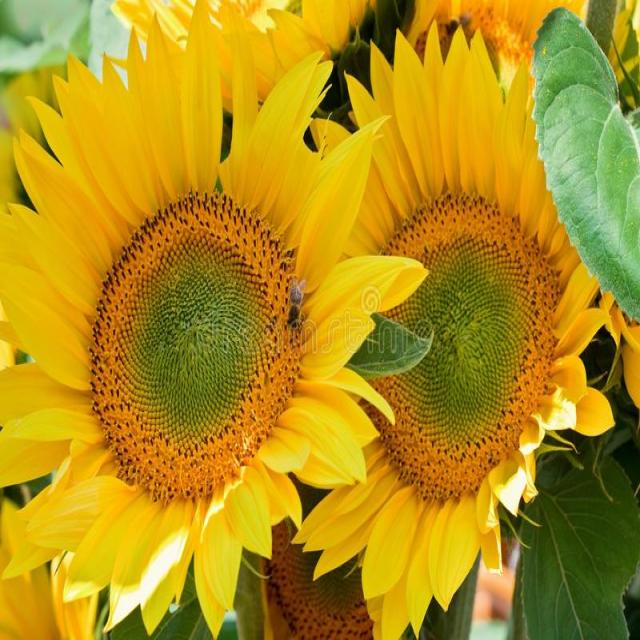sunflower: (7, 22, 420, 629), (278, 27, 623, 633)
